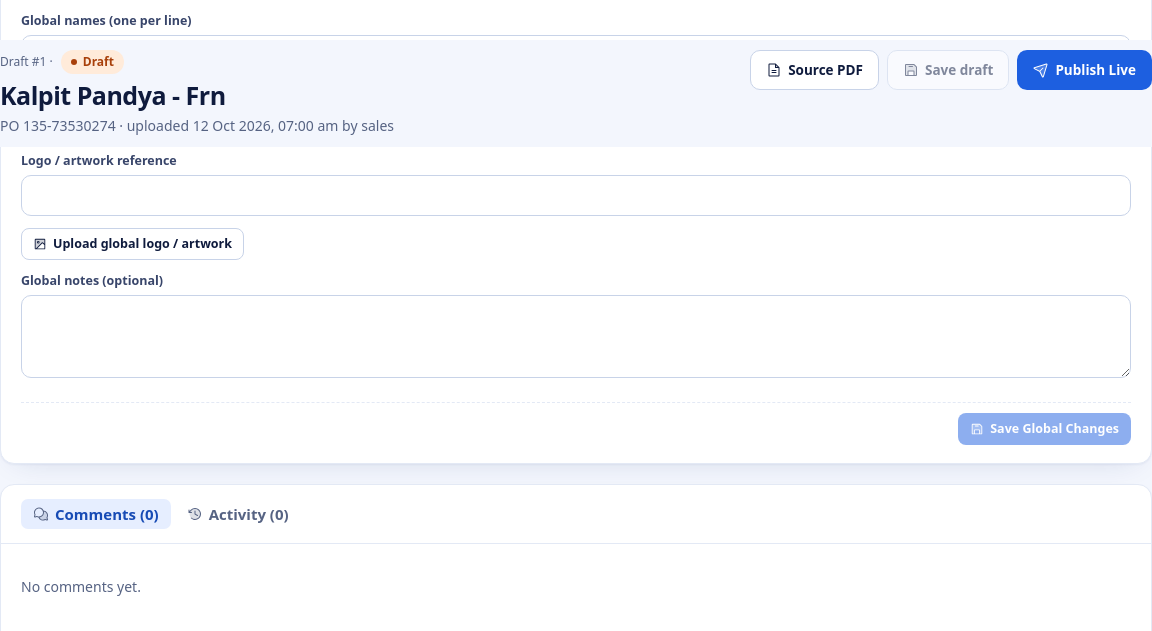
Test: Save Global Changes › keeps global edits when the save fails
(page scrolled)
Type "Rush" into the text box labelled "Global notes (optional)". click: (576, 336)
box: [21,294,1131,378]
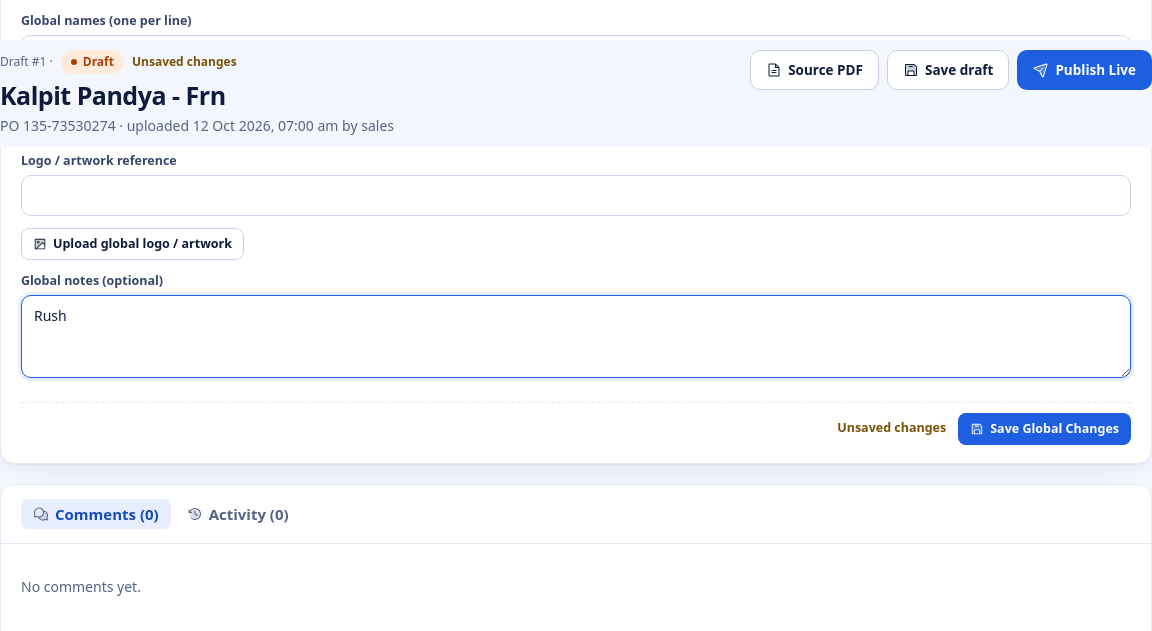
Click the button "Save Global Changes". click: (1045, 428)
box: [958,412,1131,444]
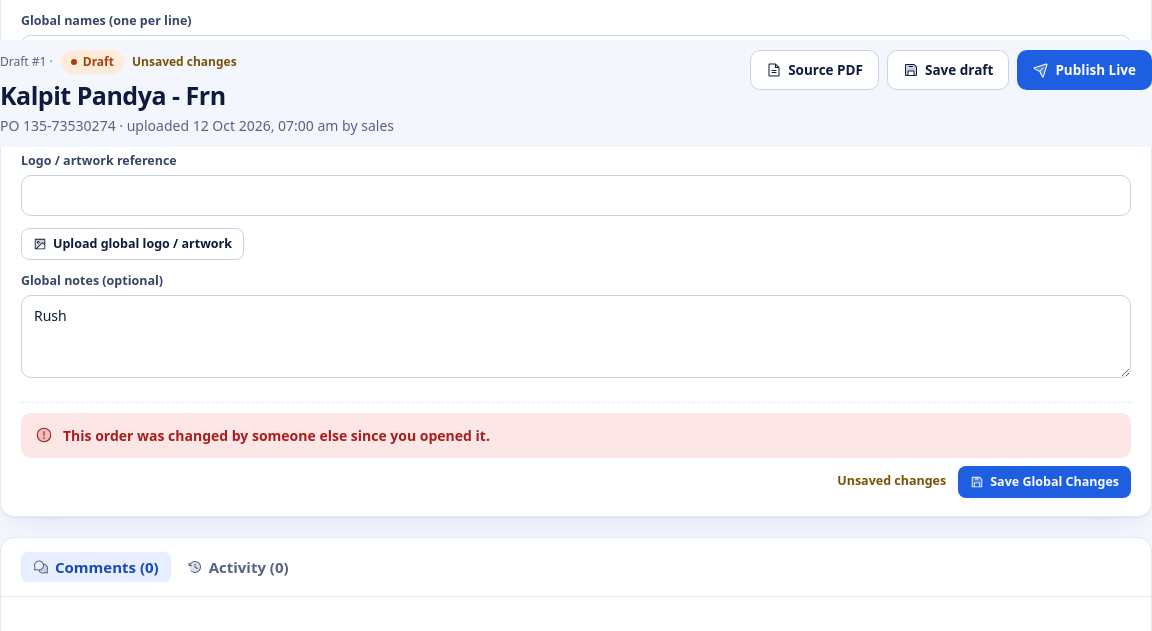
Expected: the 2nd text "Unsaved changes" is shown, [837,472,946,489]
Expected: the text "This order was changed by someone else since you opened it." is shown, [63,426,490,444]
